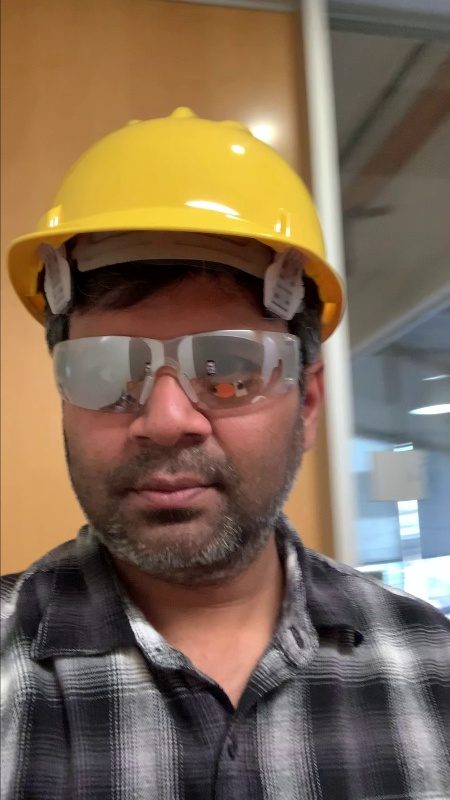glasses: (47, 325, 309, 428)
helmet: (3, 100, 355, 328)
